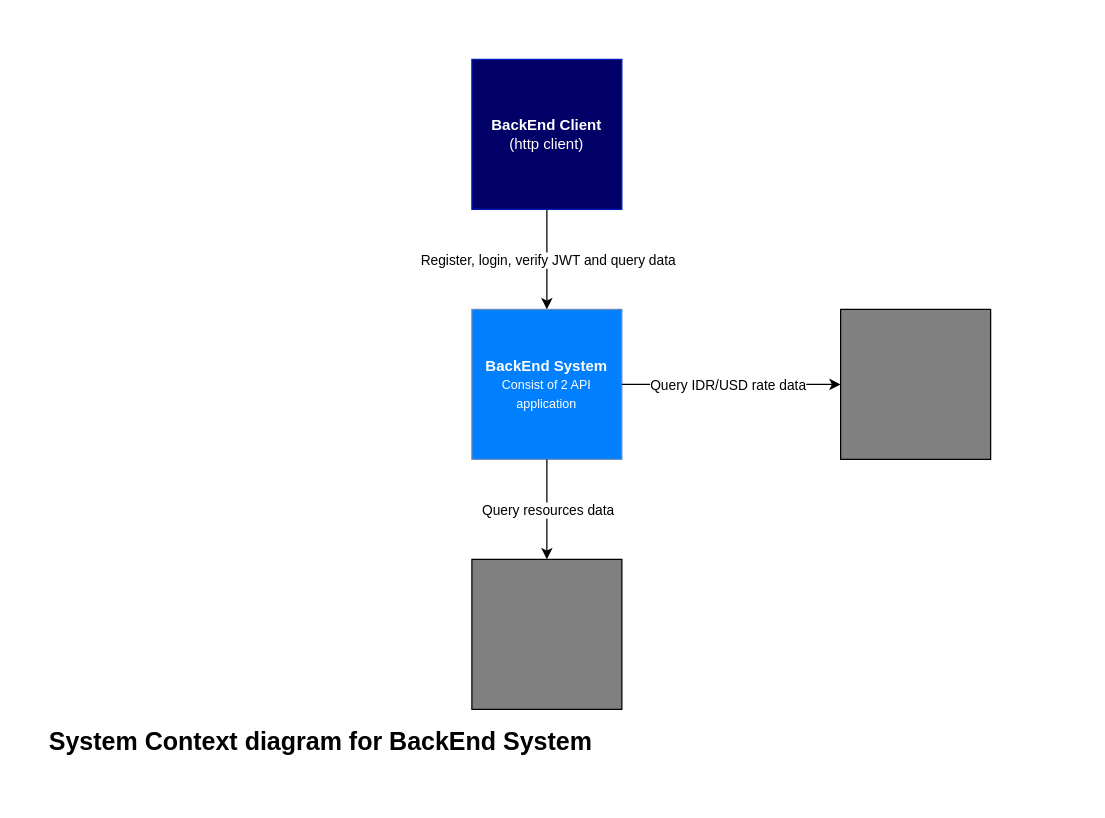
This 1105x818 diagram has some shape labels left out. Here are the shapes that lost their labels. From the top down, the centre of each, then its label:
At [915,383]: "Currency System Currency exchange rate system".
At [546,633]: "eFishery System Comodity data source".
